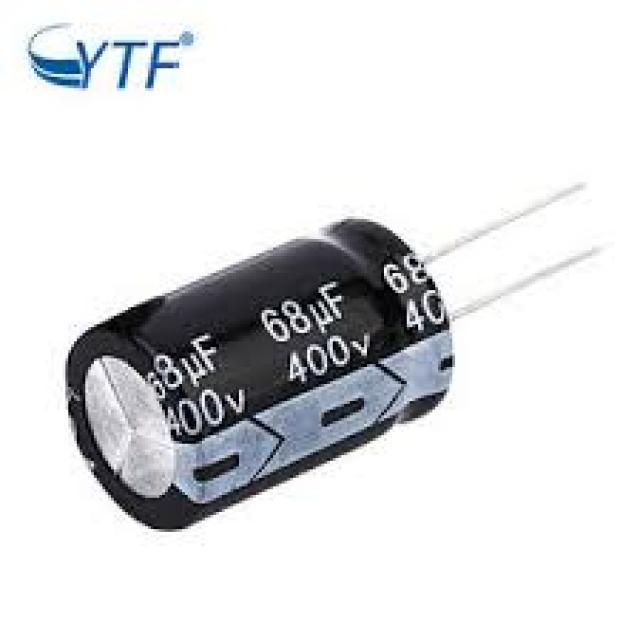Capacitor: (63, 176, 614, 535)
